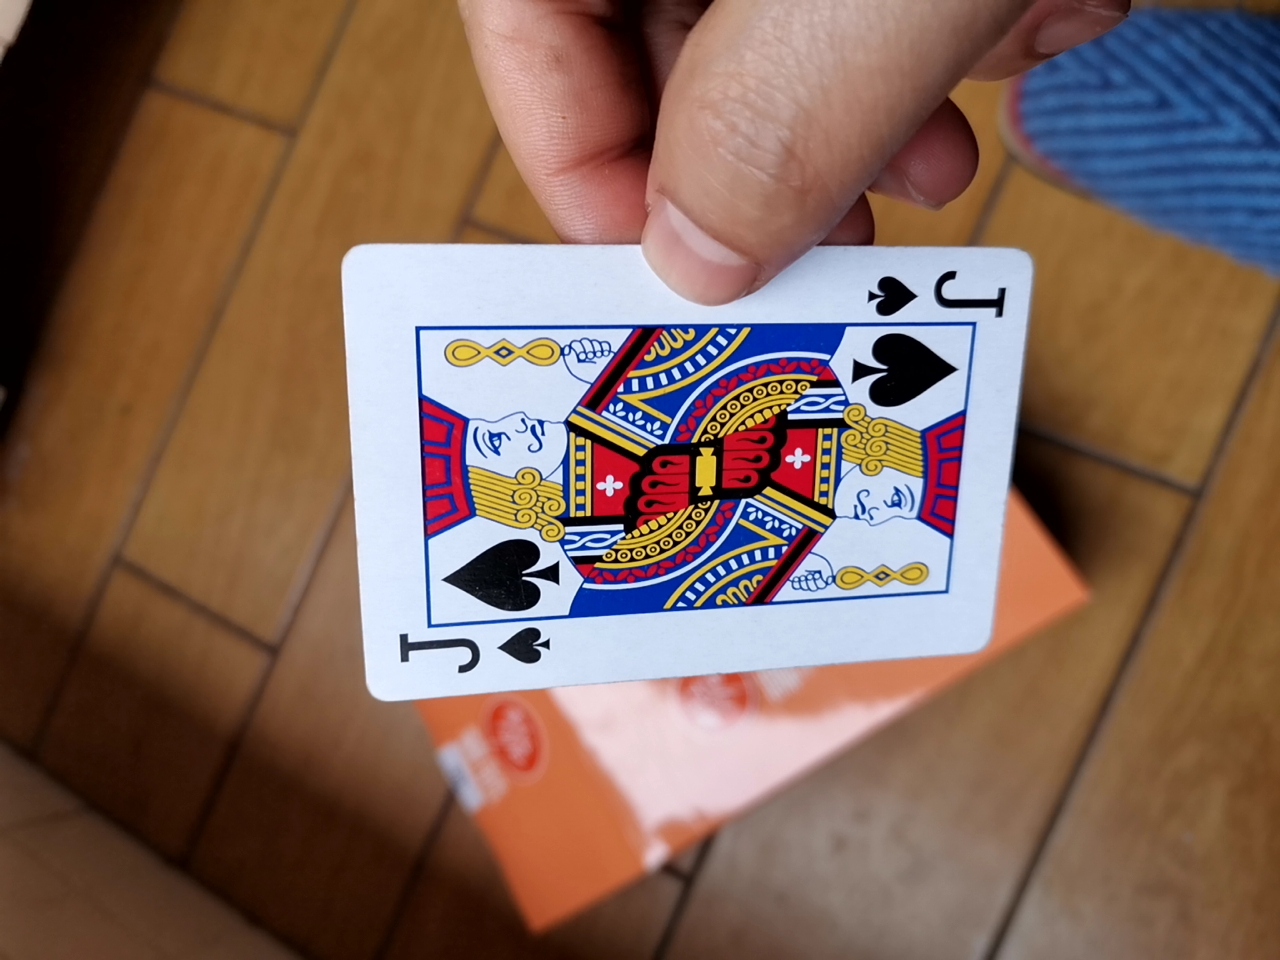ht j: (306, 238, 1038, 720)
